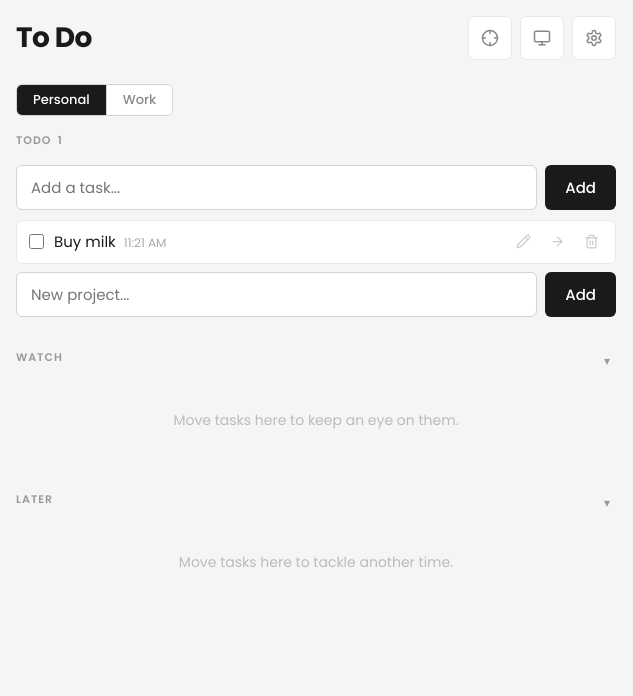
undo delete › shows a toast after deleting and Undo restores the task
Click the button named "Delete task": (591, 242) [579,230,603,254]
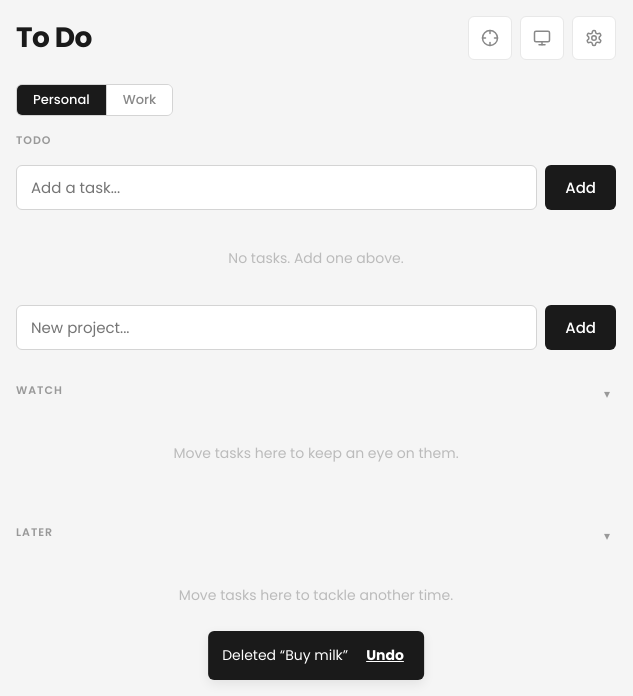
expect the message with class "undo-toast" shows "Deleted “Buy milk”": met, box [208,631,424,680]
Click the button "Undo": (385, 656) [360,641,410,670]
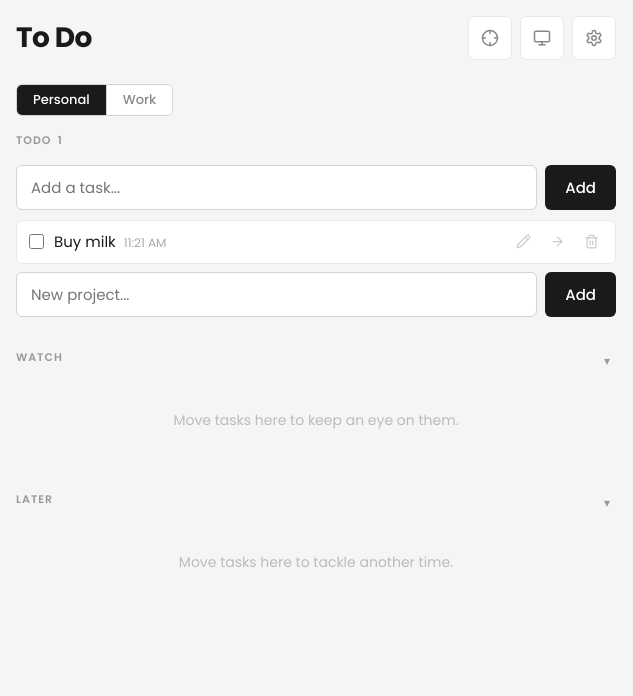
expect the text "Buy milk" is shown: met, box [54,231,116,252]
expect the message with class "undo-toast" is gone: met
